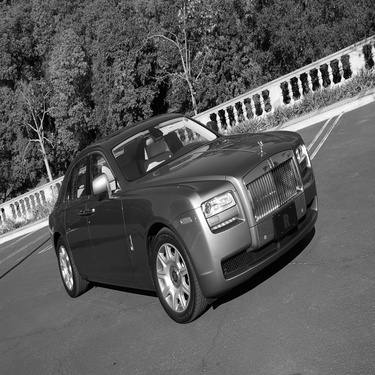car: (40, 105, 325, 314)
